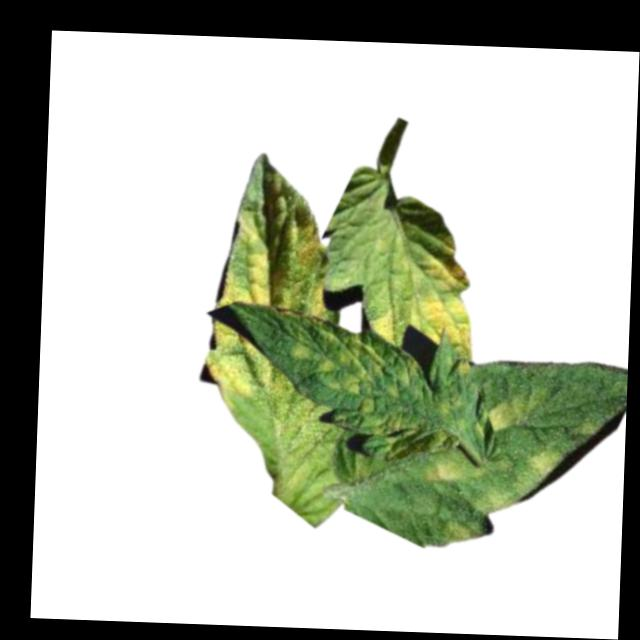Leaf_Mold: (285, 307, 427, 432), (370, 230, 483, 360), (219, 200, 334, 312), (203, 312, 280, 410), (487, 391, 535, 436), (426, 454, 479, 488), (526, 445, 569, 482), (443, 512, 483, 544)
